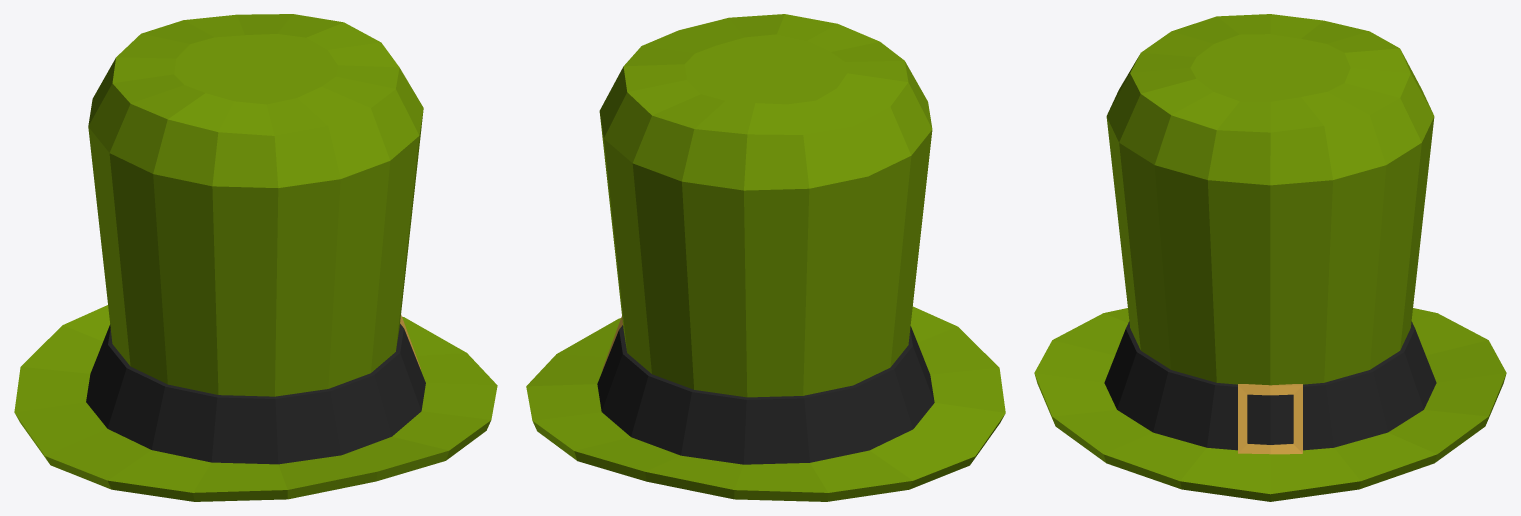
File: Irish.fbx
The picture shows the model from 3 angles, left to right: view 1: azimuth 30°, elevation 25°; view 2: azimuth 150°, elevation 25°; view 3: azimuth 270°, elevation 25°; orthographic projection. The views are drawn at different scales.
Visible parts, largest first — view 1: Círculo.001; view 2: Círculo.001; view 3: Círculo.001, Cubo.
Part boxes in pixels (bbox=[...]): Círculo.001: bbox=[14, 14, 497, 501]; Círculo.001: bbox=[526, 14, 1005, 501]; Círculo.001: bbox=[1034, 14, 1506, 501]; Cubo: bbox=[1238, 384, 1302, 454].
Size of the model in its own units: 0.2138 by 0.1693 by 0.2138.
Materials: 1 (1 with a texture image).
